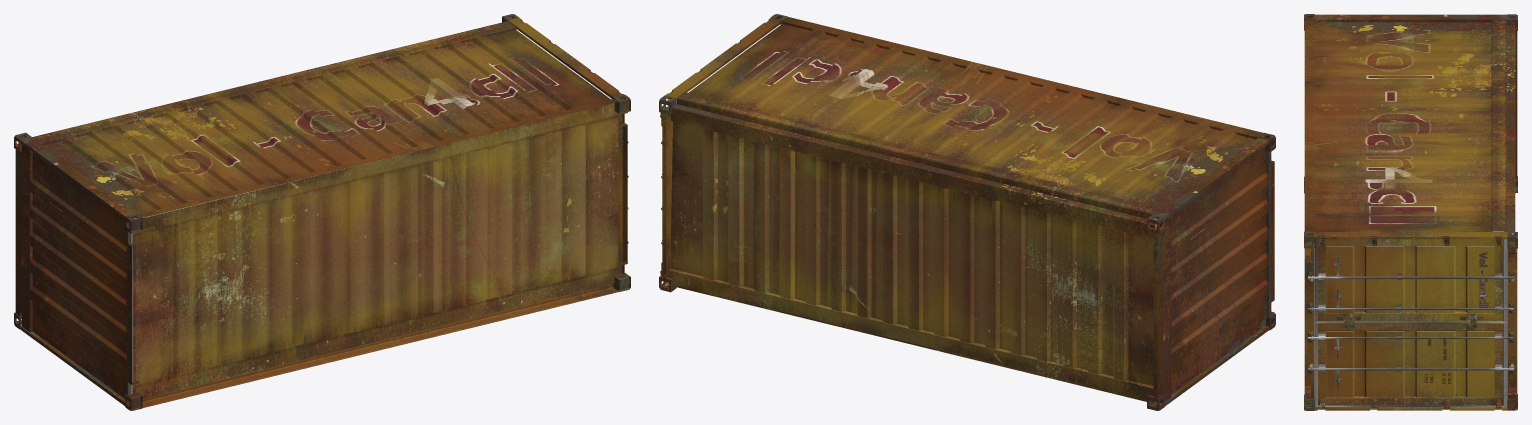
File: container.FBX
The picture shows the model from 3 angles, left to right: view 1: azimuth 30°, elevation 25°; view 2: azimuth 150°, elevation 25°; view 3: azimuth 270°, elevation 25°; orthographic projection. The views are drawn at different scales.
Visible parts, largest first — view 1: container; view 2: container; view 3: container.
Part boxes in pixels (box(x1,y1,x2,y2)): container: box(14, 14, 630, 410); container: box(659, 14, 1275, 410); container: box(1304, 14, 1517, 410).
Bounding box in the file's own units: 595 × 216 × 240.
Materials: 1 (1 with a texture image).
